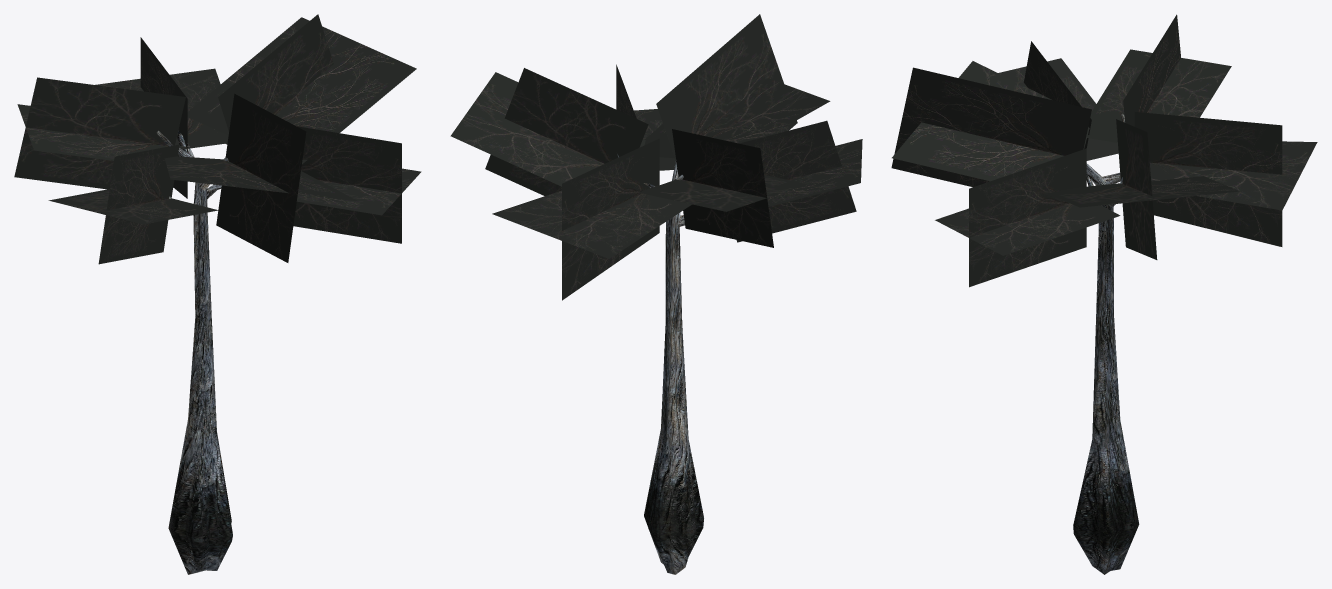
Rendered from decd_scorched_massassi_l0.fbx.
The picture shows the model from 3 angles, left to right: view 1: azimuth 30°, elevation 25°; view 2: azimuth 150°, elevation 25°; view 3: azimuth 270°, elevation 25°; orthographic projection. The views are drawn at different scales.
Visible parts, largest first — view 1: mesh_node; view 2: mesh_node; view 3: mesh_node.
Part boxes in pixels (x1,y1,x2,y2): mesh_node: (14,14,421,574); mesh_node: (450,14,862,574); mesh_node: (891,14,1317,574).
Bounding box in the file's own units: 70.93 × 92.45 × 70.42.
